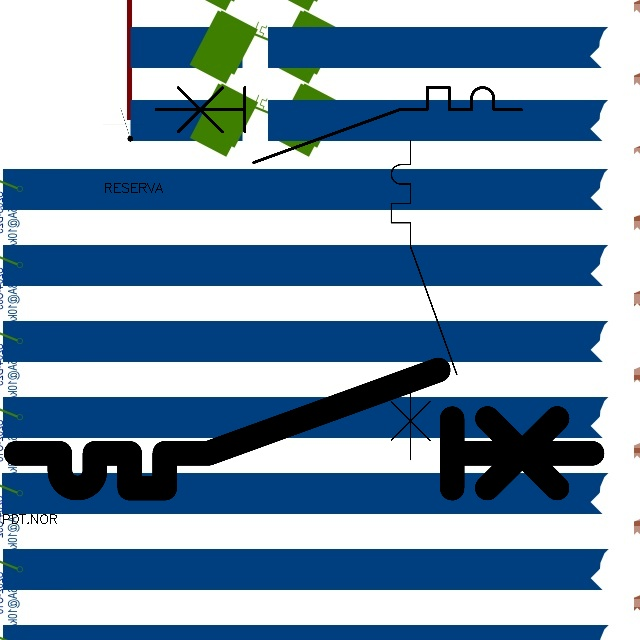interruptor_termomagnetico: (1, 355, 607, 503), (146, 78, 531, 172), (383, 132, 465, 468)
